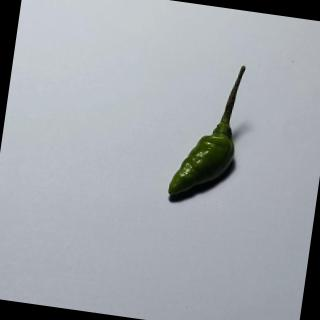Cabai Hijau: (165, 56, 258, 217)
